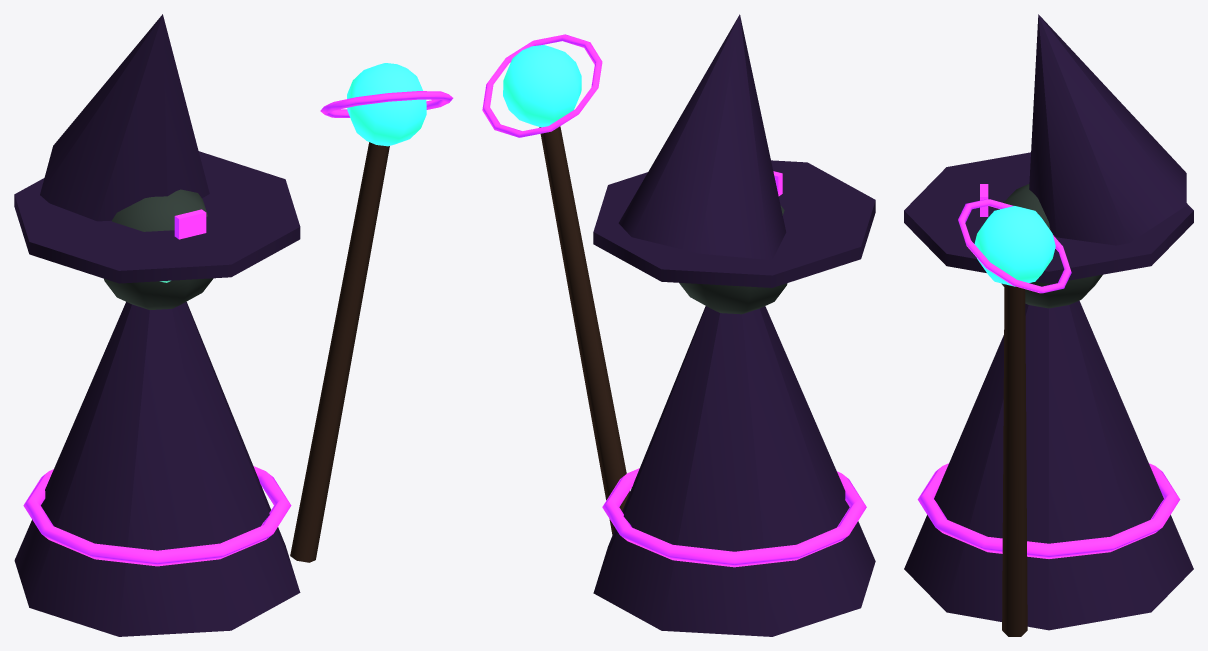
The model's file is forest-witch.glb.
3 renders of one model, left to right at view 1: azimuth 30°, elevation 25°; view 2: azimuth 150°, elevation 25°; view 3: azimuth 270°, elevation 25°, orthographic. The views are drawn at different scales.
Visible parts, largest first — view 1: boss_forest_witch; view 2: boss_forest_witch; view 3: boss_forest_witch.
Part boxes in pixels (bbox=[...]): boss_forest_witch: bbox=[14, 14, 453, 636]; boss_forest_witch: bbox=[482, 14, 875, 636]; boss_forest_witch: bbox=[904, 14, 1193, 636].
Size of the model in its own units: 2.63 by 3.6 by 1.7.
